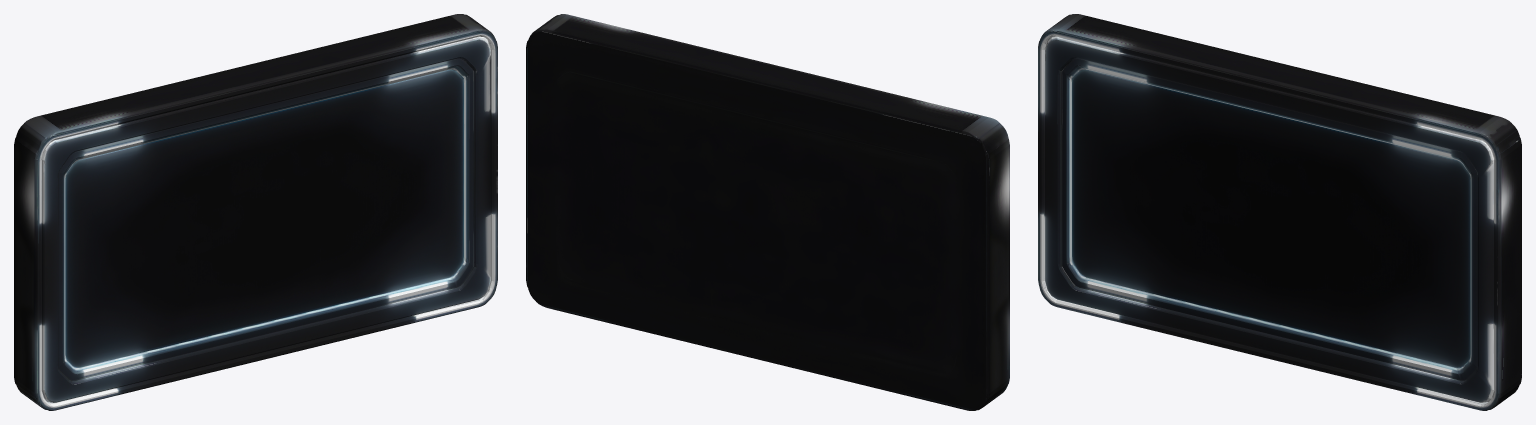
Rendered from Panel.fbx.
The picture shows the model from 3 angles, left to right: view 1: azimuth 30°, elevation 25°; view 2: azimuth 150°, elevation 25°; view 3: azimuth 330°, elevation 25°; orthographic projection.
Visible parts, largest first — view 1: Mesh_0; view 2: Mesh_0; view 3: Mesh_0.
Part boxes in pixels (box(x1,y1,x2,y2)): Mesh_0: box(14, 14, 497, 410); Mesh_0: box(526, 14, 1009, 410); Mesh_0: box(1038, 14, 1521, 410).
Size of the model in its own units: 200 by 115 by 17.05.
1 material, 1 textured.
